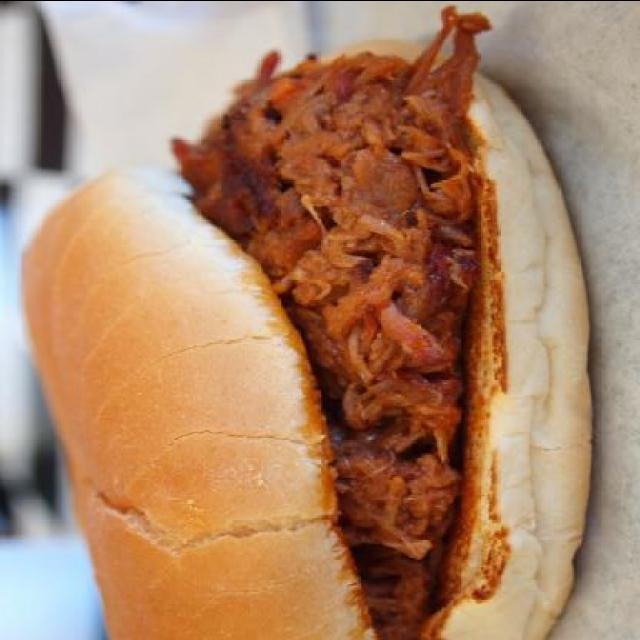Sandwich: (15, 0, 599, 640)
